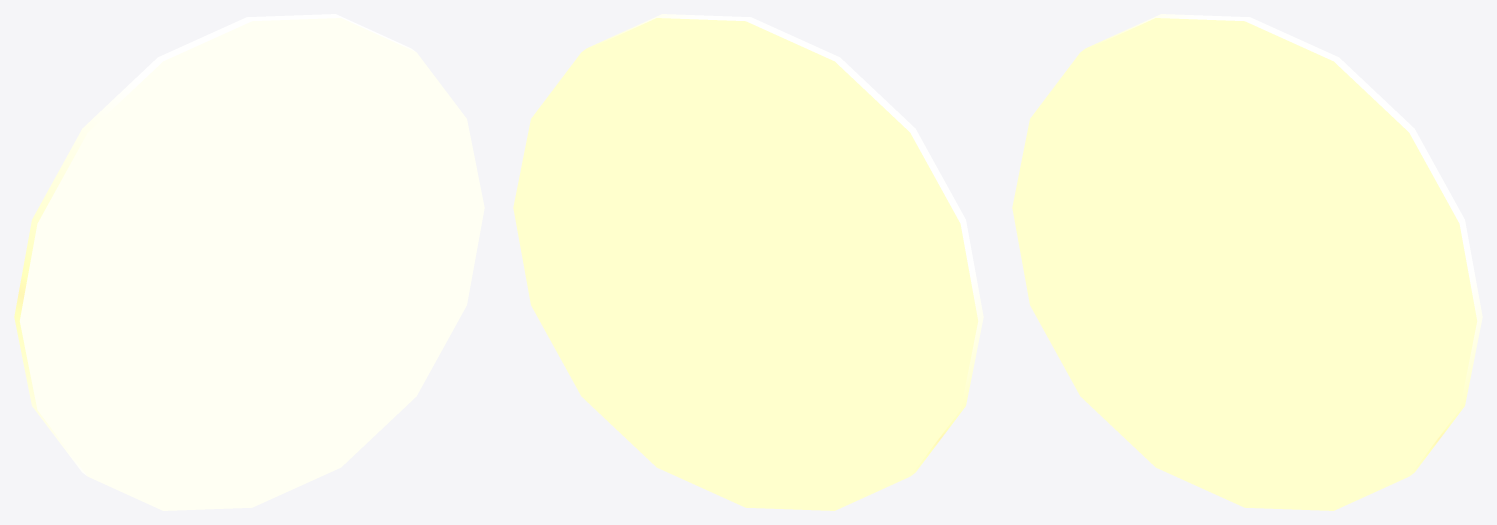
Rendered from SM_FieldKit_LampBulb_LOD1.glb.
The picture shows the model from 3 angles, left to right: view 1: azimuth 30°, elevation 25°; view 2: azimuth 150°, elevation 25°; view 3: azimuth 330°, elevation 25°; orthographic projection.
Parts seen in each view (by area): view 1: SM_FieldKit_LampBulb_LOD1; view 2: SM_FieldKit_LampBulb_LOD1; view 3: SM_FieldKit_LampBulb_LOD1.
Boxes of the visible parts, <box> form: SM_FieldKit_LampBulb_LOD1: <box>14,14,484,510</box>; SM_FieldKit_LampBulb_LOD1: <box>513,14,983,510</box>; SM_FieldKit_LampBulb_LOD1: <box>1012,14,1482,510</box>.
Bounding box in the file's own units: 0.246 × 0.246 × 0.005.
